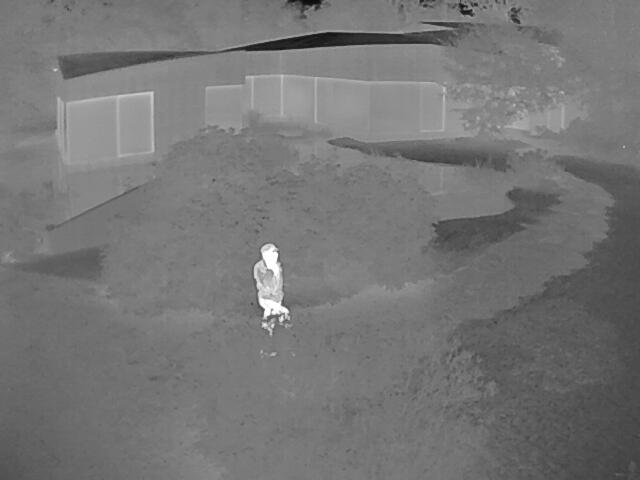person: (252, 241, 295, 359)
